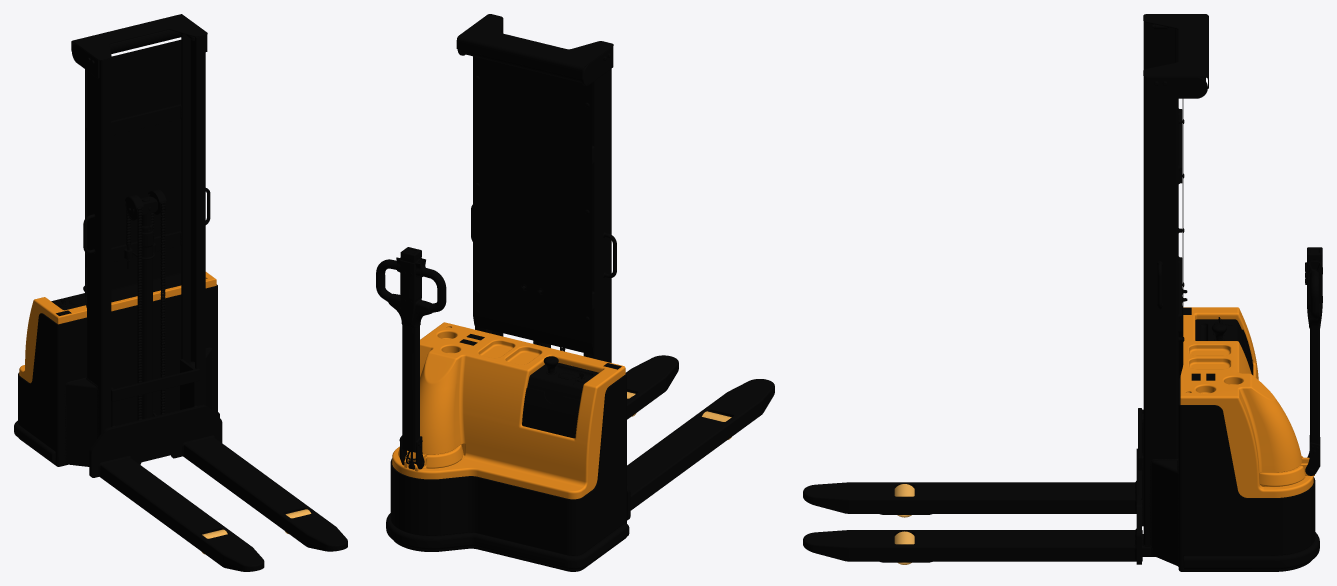
The model's file is transpallet.glb.
3 views of the same model, side by side, from view 1: azimuth 30°, elevation 25°; view 2: azimuth 150°, elevation 25°; view 3: azimuth 270°, elevation 25° (orthographic). The views are drawn at different scales.
Visible parts, largest first — view 1: Forklift_Body_A01_01, SM_Forklift_Fork_A01_01, SM_Forklift_Glass_A01_01, SM_Forklift_Chain_A01_01, SM_Forklift_DecalBody_A01_01, SM_Forklift_LiftMechanism_A01_01; view 2: Forklift_Body_A01_01, SM_Forklift_Glass_A01_01, SM_Forklift_Fork_A01_01, SM_Forklift_Rudder_A01_01, SM_Forklift_DecalBody_A01_01, SM_Forklift_RudderMechanism_A01_01; view 3: Forklift_Body_A01_01, SM_Forklift_Fork_A01_01, SM_Forklift_DecalBody_A01_01, SM_Forklift_Rudder_A01_01, SM_Forklift_RudderMechanism_A01_01, SM_Forklift_Glass_A01_01.
Boxes of the visible parts, box(x1,y1,x2,y2) form: Forklift_Body_A01_01: box(14, 14, 304, 534); SM_Forklift_Fork_A01_01: box(89, 359, 347, 571); SM_Forklift_Glass_A01_01: box(85, 39, 181, 307); SM_Forklift_Chain_A01_01: box(126, 191, 165, 420); SM_Forklift_DecalBody_A01_01: box(41, 88, 97, 432); SM_Forklift_LiftMechanism_A01_01: box(125, 189, 166, 226); Forklift_Body_A01_01: box(386, 14, 732, 571); SM_Forklift_Glass_A01_01: box(473, 56, 593, 354); SM_Forklift_Fork_A01_01: box(626, 355, 774, 520); SM_Forklift_Rudder_A01_01: box(376, 247, 446, 469); SM_Forklift_DecalBody_A01_01: box(459, 89, 623, 514); SM_Forklift_RudderMechanism_A01_01: box(398, 444, 463, 471); Forklift_Body_A01_01: box(880, 14, 1319, 571); SM_Forklift_Fork_A01_01: box(803, 408, 1143, 564); SM_Forklift_DecalBody_A01_01: box(1151, 118, 1216, 535); SM_Forklift_Rudder_A01_01: box(1305, 247, 1322, 475); SM_Forklift_RudderMechanism_A01_01: box(1259, 456, 1314, 486); SM_Forklift_Glass_A01_01: box(1179, 99, 1183, 378).
Size of the model in its own units: 82.26 by 196 by 189.
